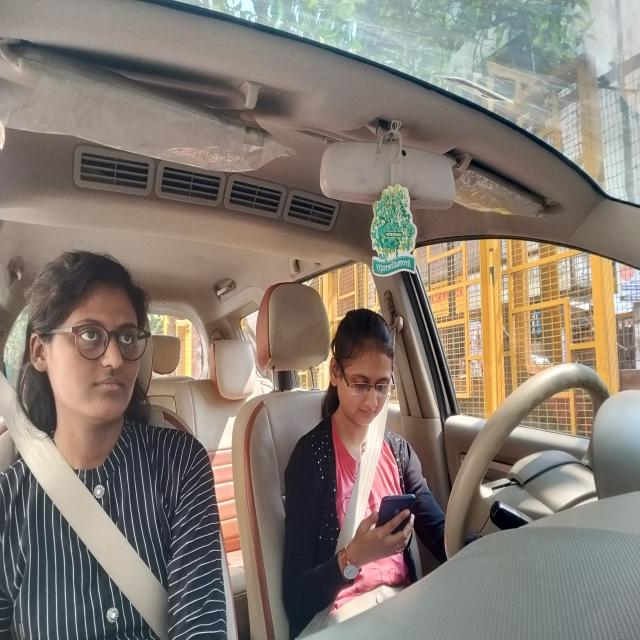mobile: (375, 489, 418, 550)
person: (22, 247, 156, 428), (328, 304, 402, 433)
